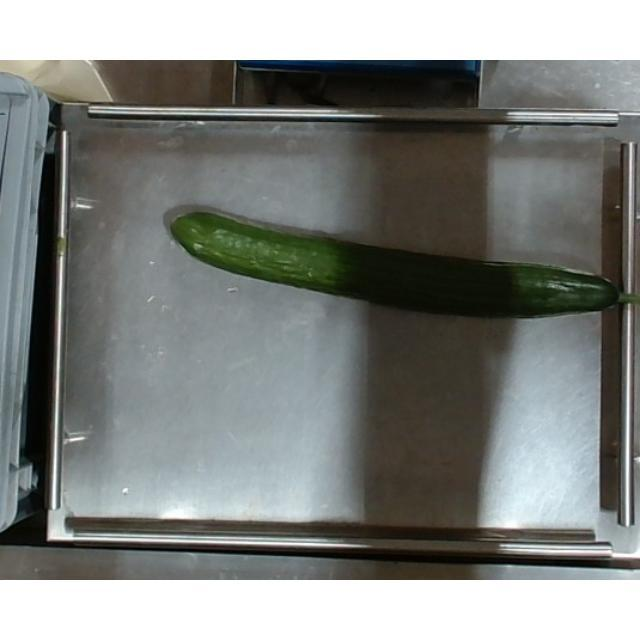cucumber: (168, 209, 640, 325)
